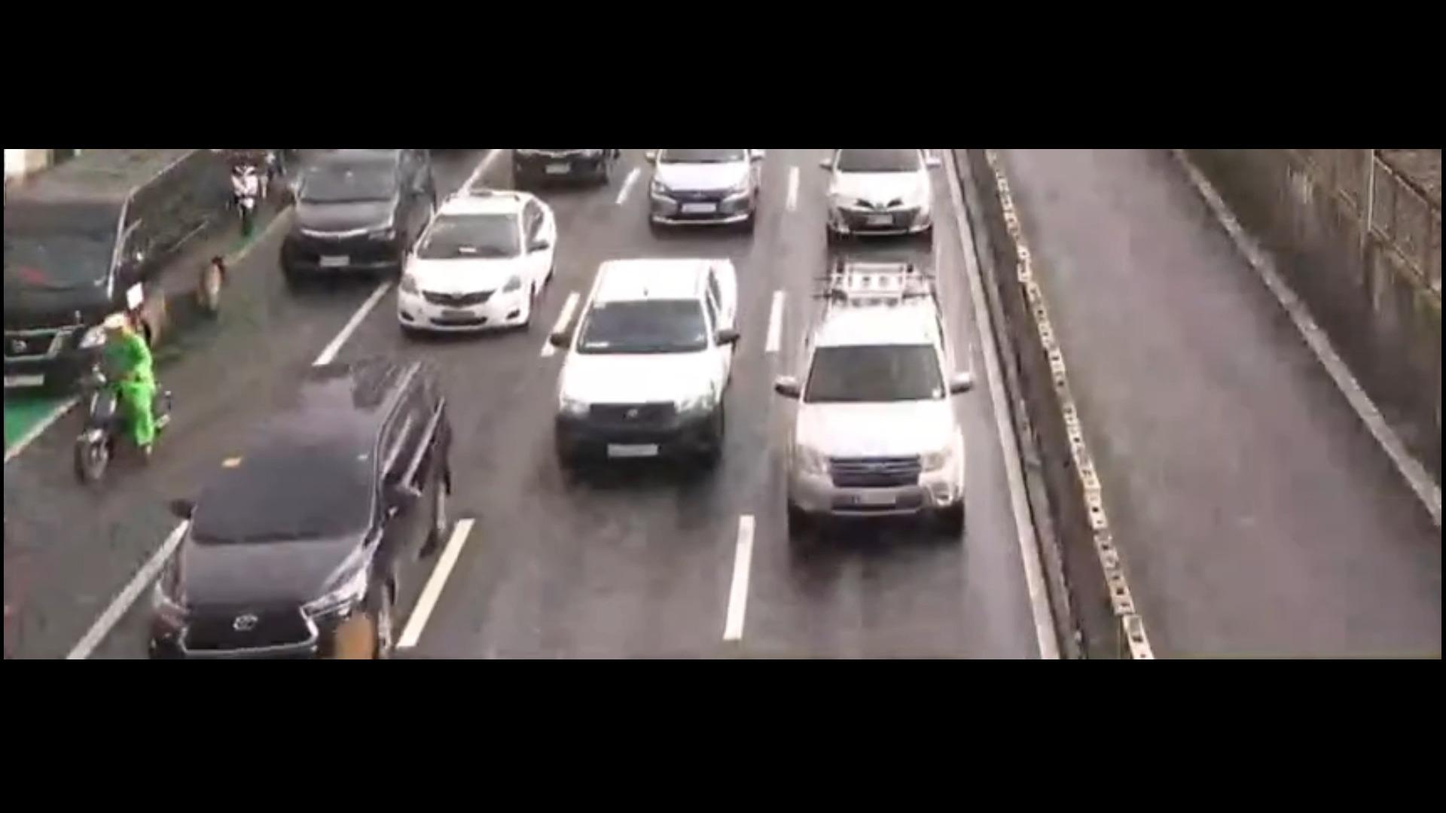Motorcycle: (75, 298, 189, 493), (210, 117, 298, 247)
Pickup: (522, 239, 765, 514)
SUV: (125, 343, 479, 660), (772, 232, 1013, 574), (278, 145, 443, 282)
Sedan: (366, 179, 584, 345)
Van: (0, 140, 228, 381)
